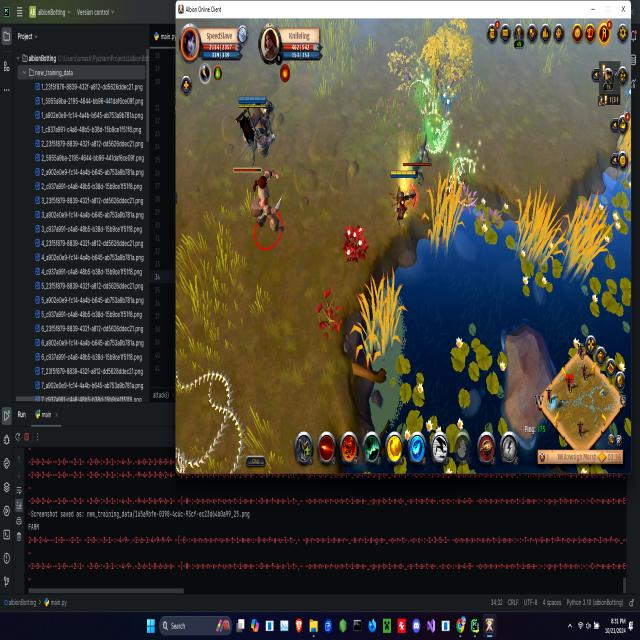hide: (341, 222, 374, 273), (438, 79, 459, 124)
ore: (231, 161, 291, 256), (400, 127, 431, 199)
red: (233, 91, 282, 164), (390, 167, 420, 226)
